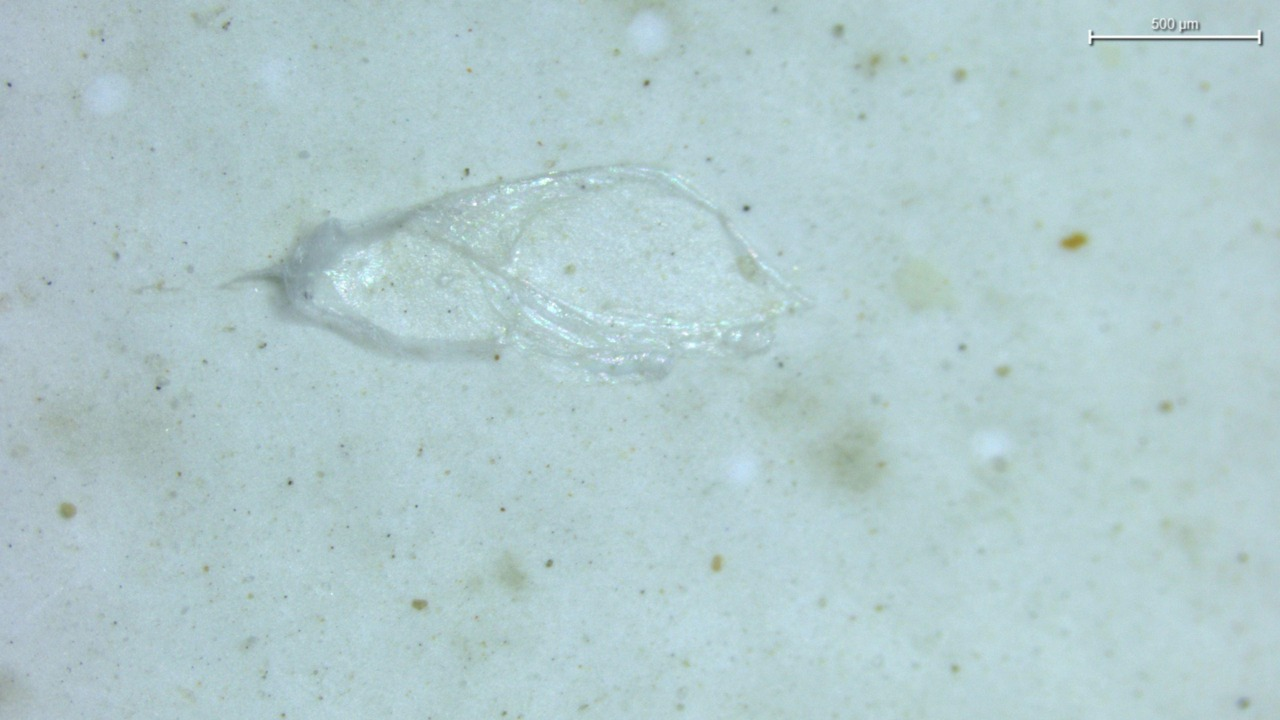microplastic_fragment: (229, 166, 791, 377)
